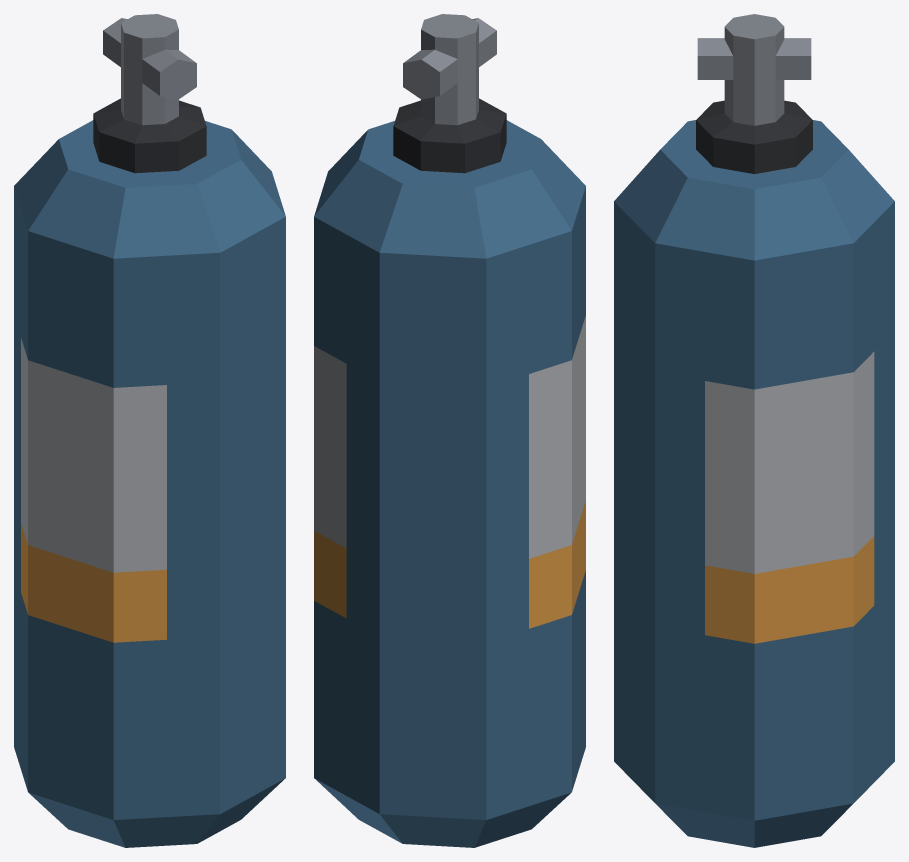
The model's file is SM_Prop_Oxygen_Tank.glb.
3 views of the same model, side by side, from view 1: azimuth 30°, elevation 25°; view 2: azimuth 150°, elevation 25°; view 3: azimuth 270°, elevation 25° (orthographic).
Parts seen in each view (by area): view 1: SM_Prop_Oxygen_Tank; view 2: SM_Prop_Oxygen_Tank; view 3: SM_Prop_Oxygen_Tank.
Boxes of the visible parts, left/top/right/bottom form: SM_Prop_Oxygen_Tank: left=14, top=14, right=285, bottom=847; SM_Prop_Oxygen_Tank: left=314, top=14, right=585, bottom=847; SM_Prop_Oxygen_Tank: left=614, top=14, right=894, bottom=847.
Bounding box in the file's own units: 0.3374 × 1.04 × 0.3374.
1 material, 1 textured.
